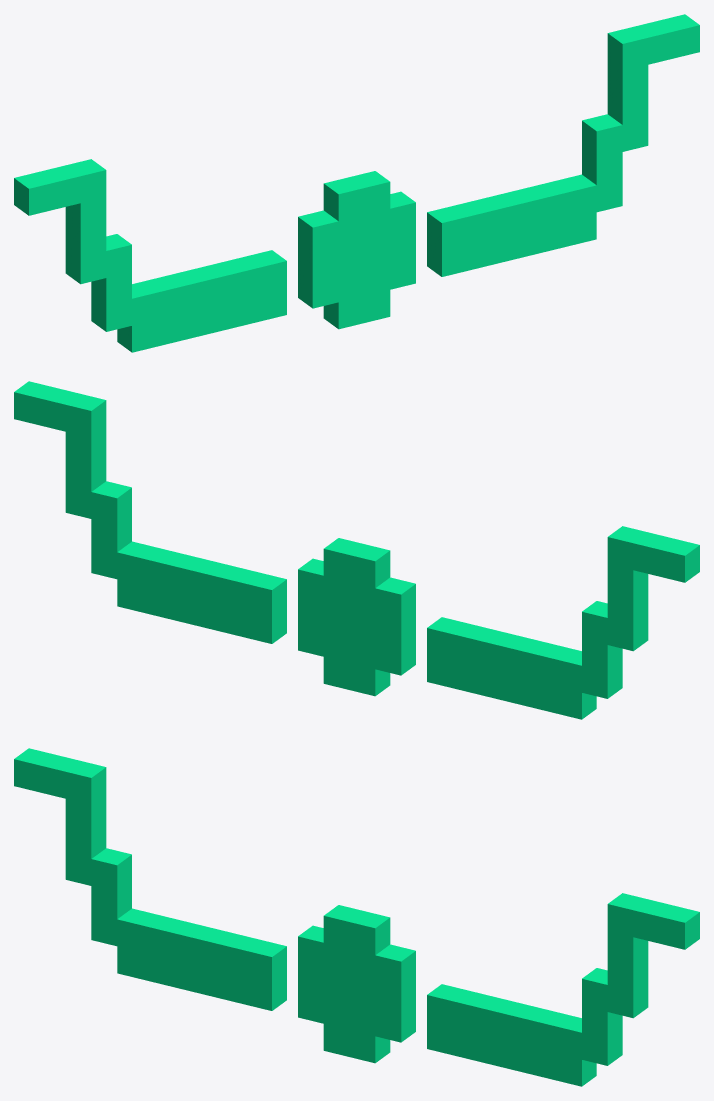
3 views of the same model, one above another, from view 1: azimuth 30°, elevation 25°; view 2: azimuth 150°, elevation 25°; view 3: azimuth 330°, elevation 25° (orthographic).
Visible parts, largest first — view 1: 313.1; view 2: 313.1; view 3: 313.1.
Part boxes in pixels (bbox=[...]): 313.1: bbox=[14, 14, 699, 352]; 313.1: bbox=[14, 381, 699, 719]; 313.1: bbox=[14, 748, 699, 1086].
Size of the model in its own units: 260 by 80 by 10.
1 material, 1 textured.
